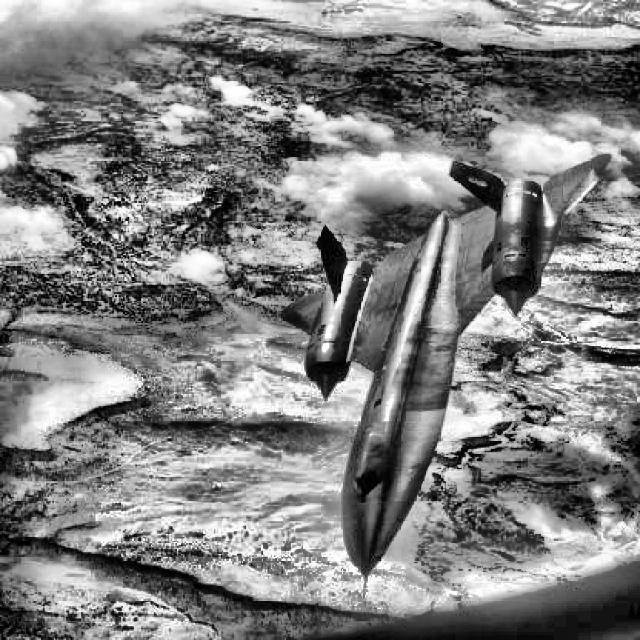SR71: (278, 152, 612, 600)
